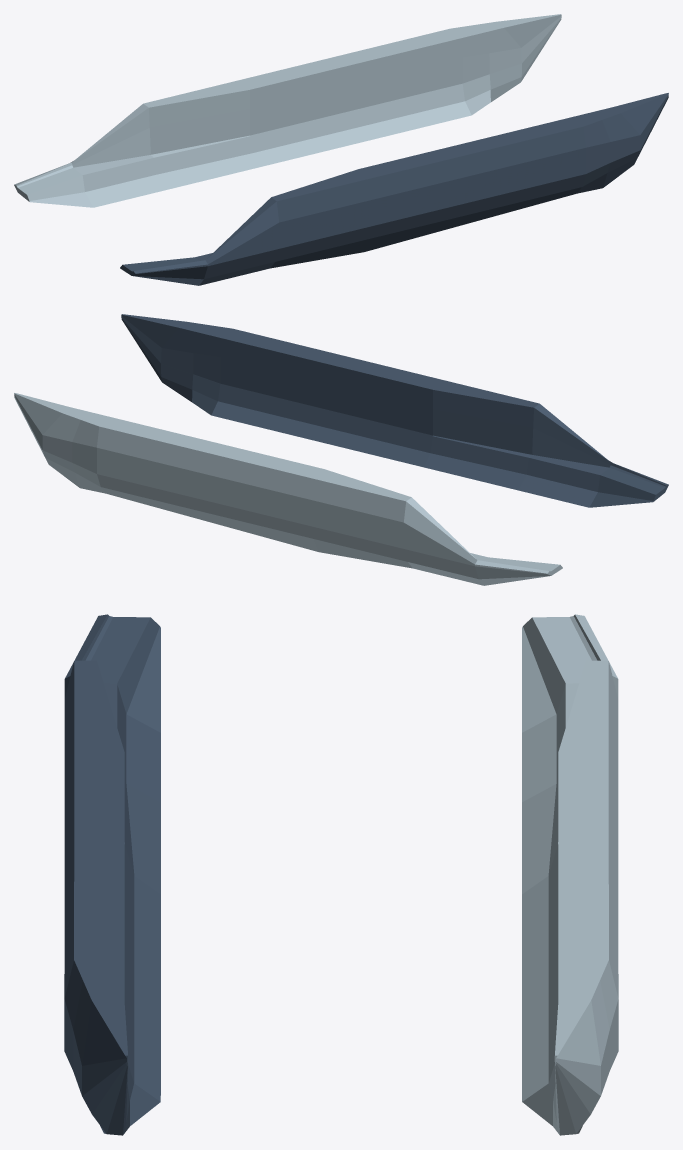
The picture shows the model from 3 angles, top to bottom: view 1: azimuth 30°, elevation 25°; view 2: azimuth 150°, elevation 25°; view 3: azimuth 270°, elevation 25°; orthographic projection. The views are drawn at different scales.
Parts seen in each view (by area): view 1: 立方体.024, 立方体.015; view 2: 立方体.015, 立方体.024; view 3: 立方体.024, 立方体.015.
Boxes of the visible parts, x1,y1,x2,y2 form: 立方体.024: [14, 14, 561, 207]; 立方体.015: [120, 93, 668, 285]; 立方体.015: [121, 314, 668, 507]; 立方体.024: [14, 393, 562, 585]; 立方体.024: [522, 614, 618, 1135]; 立方体.015: [64, 614, 160, 1135].
Size of the model in its own units: 8.26 by 1.15 by 3.67.
